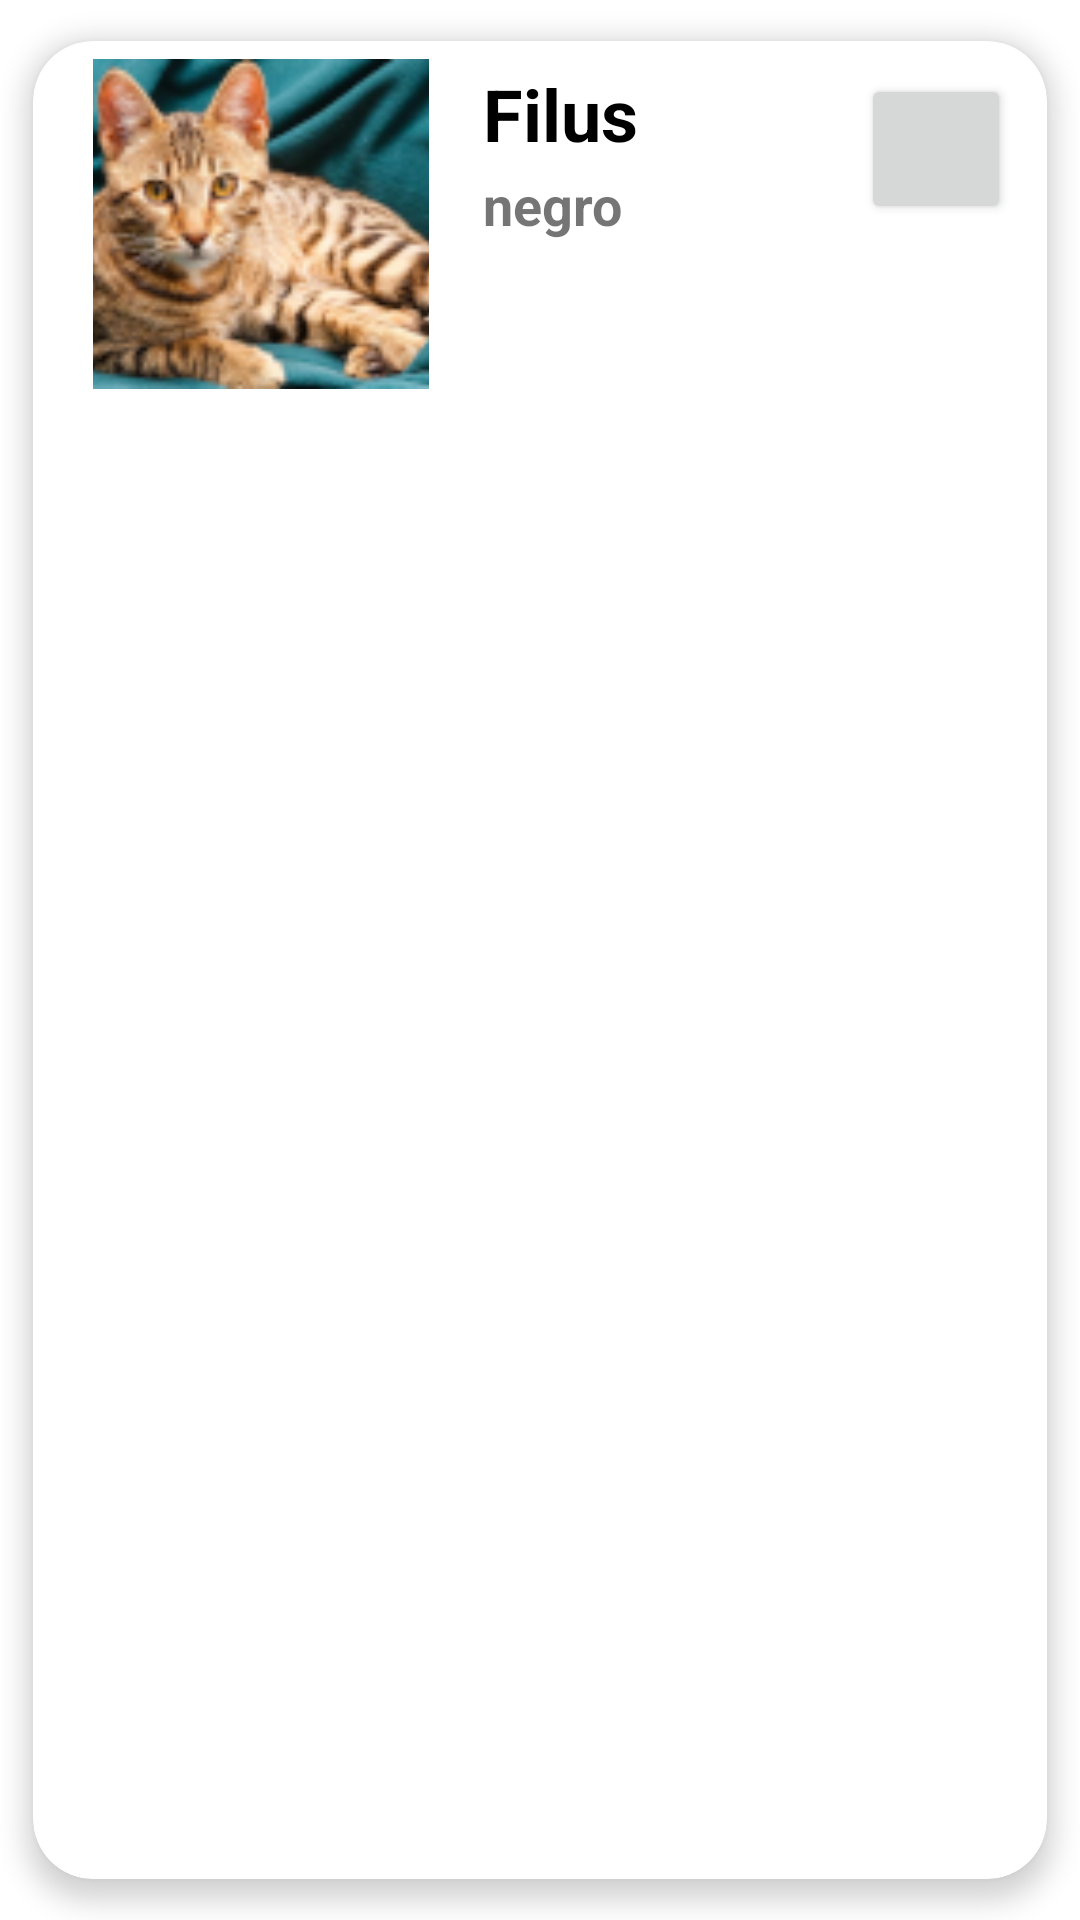

Where icons sit on this 1080px x 1920px app screen, as bbox=[x1, y1, x2, y2]:
gato uno: bbox=[93, 59, 429, 389]
